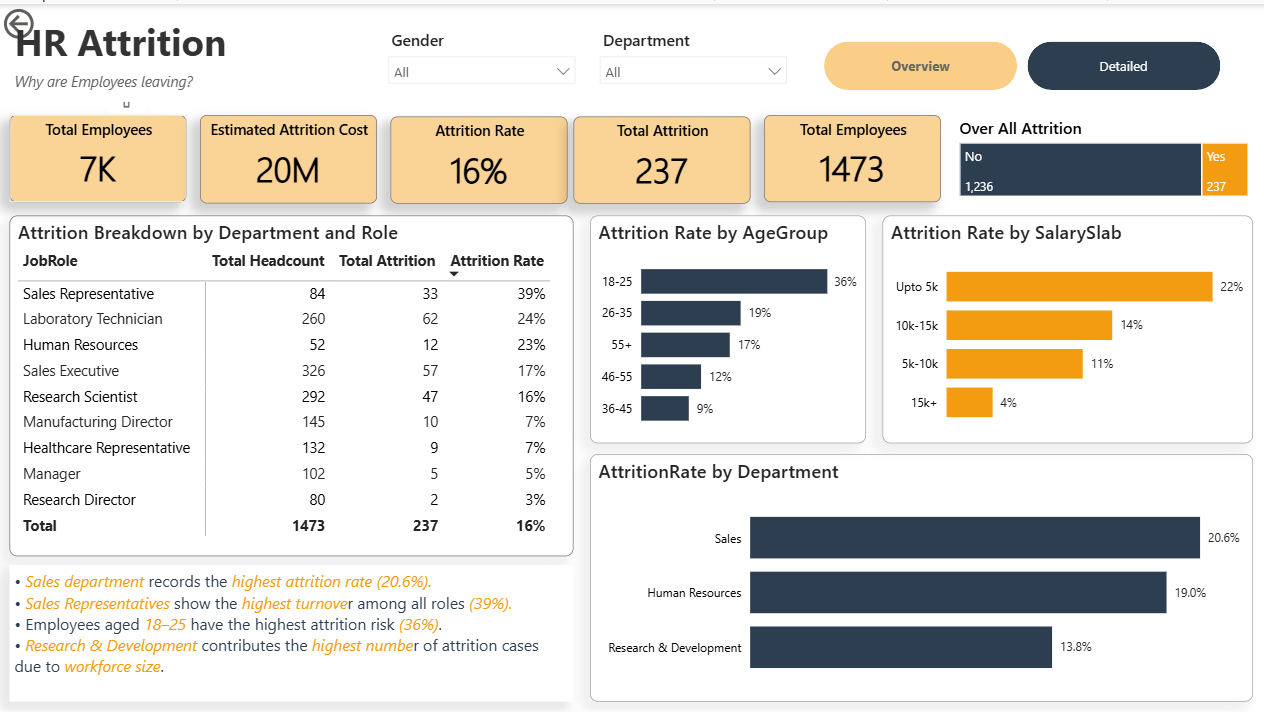

The page's visual inventory and layout, read from the dashboard file:
{"tool":"powerbi","page":{"name":"Page 1","canvas":[1280,720],"ordinal":0},"visuals":[{"type":"card","title":"Total Employees","fields":{"Values":["HR_Analytics.Total Headcount"]},"box":[11,72.3,150.9,88],"z":0},{"type":"card","title":"Total Attrition","fields":{"Values":["HR_Analytics.Total Attrition"]},"box":[180.8,70.7,135.2,88],"z":1000},{"type":"card","title":"Attrition Rate","fields":{"Values":["HR_Analytics.Attrition Rate"]},"box":[328.5,70.7,130.5,88],"z":2000},{"type":"card","title":"Estimated Attrition Cost","fields":{"Values":["HR_Analytics.Estimated Attrition Cost"]},"box":[473.1,72.3,177.6,89.6],"z":3000},{"type":"actionButton","box":[0,0,100,40],"z":4000},{"type":"textbox","box":[11,7.9,746.6,62.9],"z":5000},{"type":"pageNavigator","box":[888.1,20.4,353.7,50.3],"z":6000},{"type":"pivotTable","title":"Attrition Breakdown by Department and Role","fields":{"Rows":["HR_Analytics.Department","HR_Analytics.JobRole"],"Values":["HR_Analytics.Total Headcount","HR_Analytics.Total Attrition","HR_Analytics.Attrition Rate"]},"box":[11,179.2,487.3,525],"z":7000},{"type":"clusteredBarChart","title":"Turnover Intensity by Job Function","fields":{"Category":["HR_Analytics.JobRole"],"Y":["HR_Analytics.Attrition Rate"]},"box":[511.6,173.7,536.8,268.4],"z":8000},{"type":"shape","box":[620.9,600.4,177.6,33],"z":9000},{"type":"textbox","box":[633.5,603.6,152.5,29.9],"z":10000},{"type":"clusteredBarChart","fields":{"Category":["HR_Analytics.Department"],"Y":["HR_Analytics.AttritionRate"]},"box":[511.6,454.7,399.5,249.5],"z":11000},{"type":"barChart","fields":{"Category":["HR_Analytics.AgeGroup"],"Y":["HR_Analytics.Attrition Rate"]},"box":[1064.2,173.7,202.1,268.4],"z":12000},{"type":"textbox","box":[925.3,454.7,341.1,249.5],"z":13000},{"type":"slicer","fields":{"Values":["HR_Analytics.Department"]},"box":[659.6,71.6,611,86.5],"z":14000}]}

Visuals, with their boxes in screenshot pixels (x1, y1, x2, y2), scaled from the page's 1280x720 canvas onto the 1264x712 screenshot:
"Total Employees" card: {"left": 11, "top": 71, "right": 160, "bottom": 159}
"Total Attrition" card: {"left": 179, "top": 70, "right": 312, "bottom": 157}
"Attrition Rate" card: {"left": 324, "top": 70, "right": 453, "bottom": 157}
"Estimated Attrition Cost" card: {"left": 467, "top": 71, "right": 643, "bottom": 160}
actionButton: {"left": 0, "top": 0, "right": 99, "bottom": 40}
textbox: {"left": 11, "top": 8, "right": 748, "bottom": 70}
pageNavigator: {"left": 877, "top": 20, "right": 1226, "bottom": 70}
"Attrition Breakdown by Department and Role" pivotTable: {"left": 11, "top": 177, "right": 492, "bottom": 696}
"Turnover Intensity by Job Function" clusteredBarChart: {"left": 505, "top": 172, "right": 1035, "bottom": 437}
shape: {"left": 613, "top": 594, "right": 789, "bottom": 626}
textbox: {"left": 626, "top": 597, "right": 776, "bottom": 626}
clusteredBarChart - HR_Analytics.Department x HR_Analytics.AttritionRate: {"left": 505, "top": 450, "right": 900, "bottom": 696}
barChart - HR_Analytics.AgeGroup x HR_Analytics.Attrition Rate: {"left": 1051, "top": 172, "right": 1250, "bottom": 437}
textbox: {"left": 914, "top": 450, "right": 1251, "bottom": 696}
slicer - HR_Analytics.Department: {"left": 651, "top": 71, "right": 1255, "bottom": 156}
